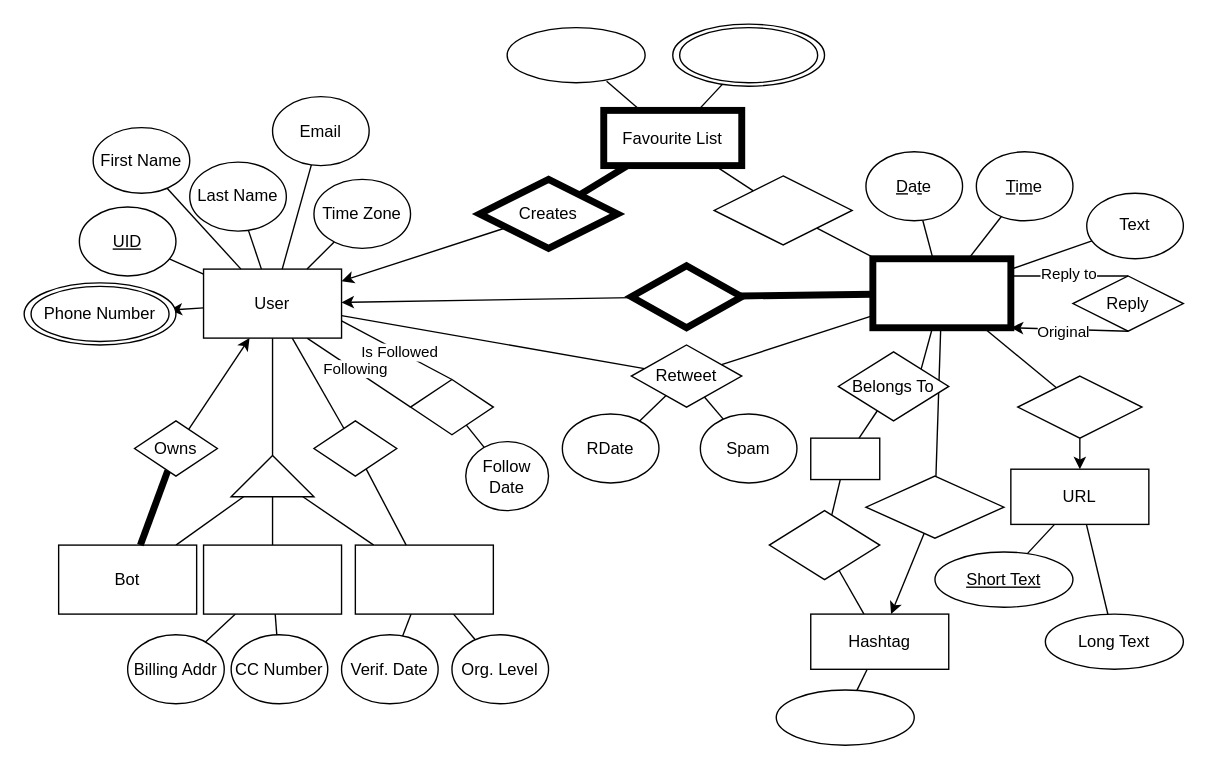
This 1208x770 diagram has some shape labels left out. The shapes that lost their labels are listed below. From the top down, each one's box as (x1, y1, x2, y2) in pixels, then its label:
(506, 26, 645, 83): N a m e
(678, 26, 818, 83): Label Color
(713, 175, 852, 245): Contains
(627, 262, 745, 331): Posts
(869, 255, 1014, 331): Tweet
(409, 378, 493, 435): Follows
(1016, 375, 1142, 438): UMentions
(313, 420, 397, 476): Affil.
(809, 437, 880, 480): Topics
(230, 454, 314, 497): ISA
(865, 475, 1004, 538): HMentions
(768, 509, 880, 580): groups
(202, 544, 342, 614): Gold
(354, 544, 493, 614): Silver
(775, 689, 914, 745): Term
